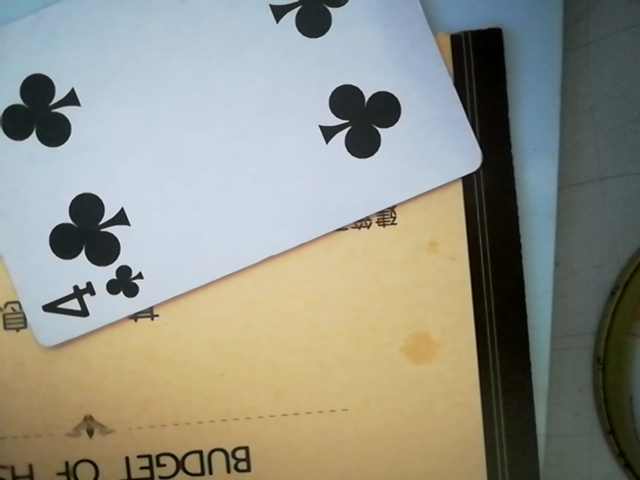mh 4: (0, 0, 491, 354)
